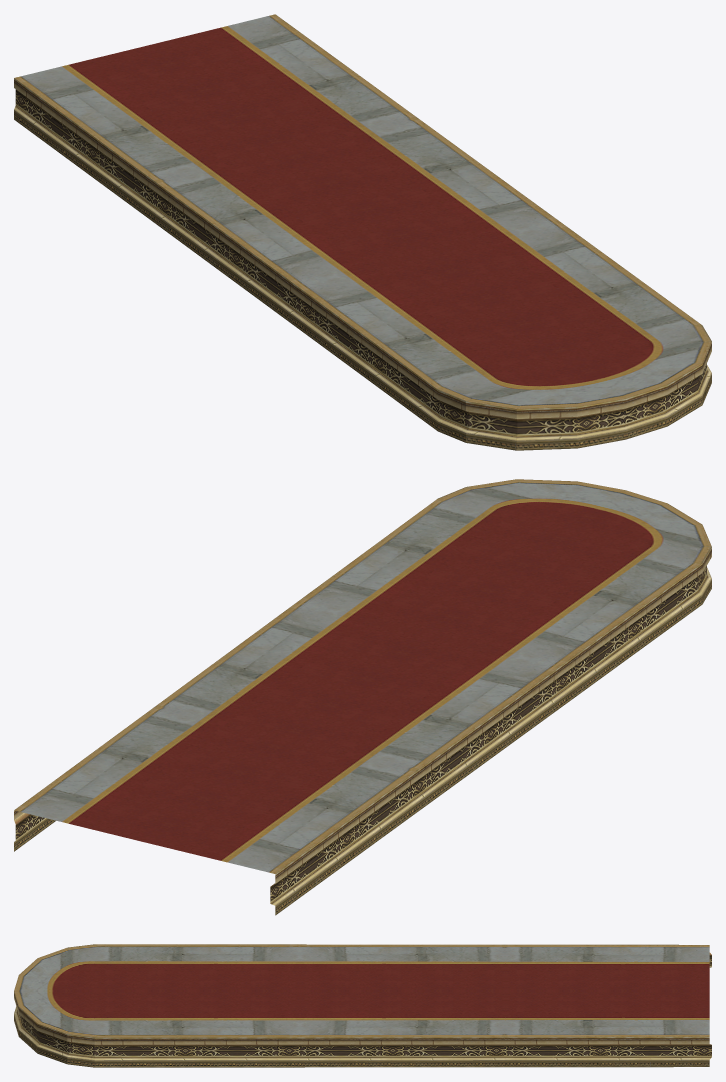
Rendered from maincity_T_b.FBX.
The picture shows the model from 3 angles, top to bottom: view 1: azimuth 30°, elevation 25°; view 2: azimuth 150°, elevation 25°; view 3: azimuth 270°, elevation 25°; orthographic projection. The views are drawn at different scales.
Visible parts, largest first — view 1: maincity_T_b; view 2: maincity_T_b; view 3: maincity_T_b.
Part boxes in pixels (bbox=[...]): maincity_T_b: bbox=[14, 14, 711, 450]; maincity_T_b: bbox=[14, 479, 711, 915]; maincity_T_b: bbox=[14, 944, 711, 1067].
Size of the model in its own units: 302 by 45.35 by 954.
Materials: 1 (1 with a texture image).
